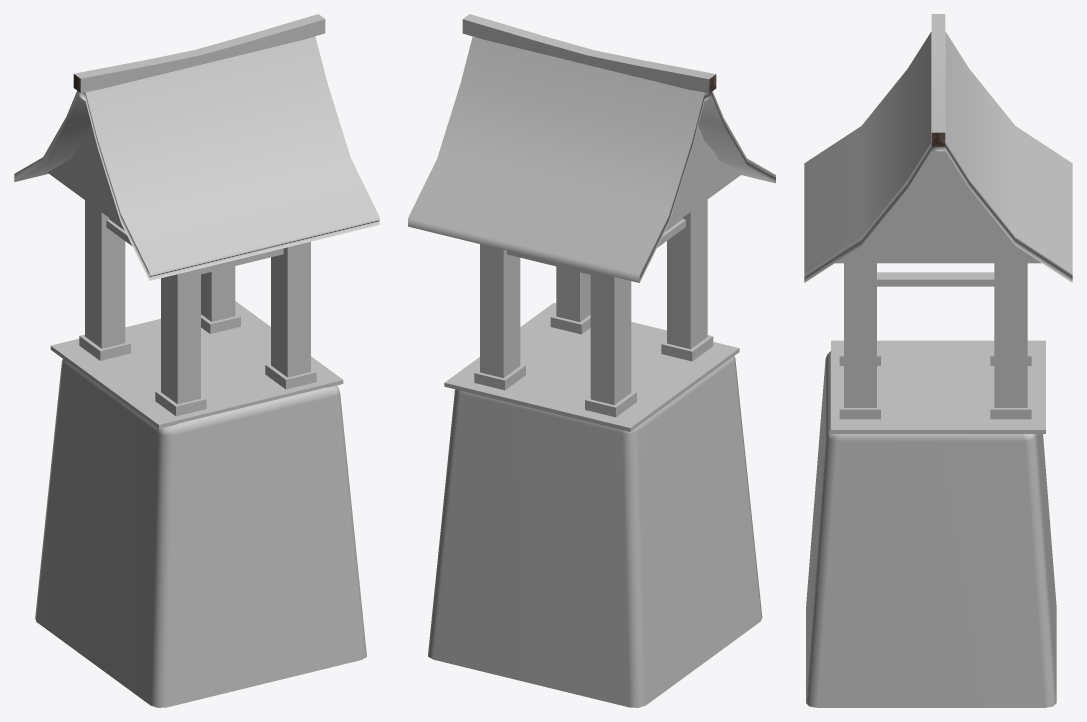
File: bridge small tower lod1.fbx
The picture shows the model from 3 angles, left to right: view 1: azimuth 30°, elevation 25°; view 2: azimuth 150°, elevation 25°; view 3: azimuth 270°, elevation 25°; orthographic projection.
Parts seen in each view (by area): view 1: polySurface475; view 2: polySurface475; view 3: polySurface475.
Part boxes in pixels (<box>): polySurface475: <box>14,14,379,707</box>; polySurface475: <box>408,14,775,707</box>; polySurface475: <box>804,14,1072,707</box>.
Size of the model in its own units: 11.64 by 26.73 by 11.13.
